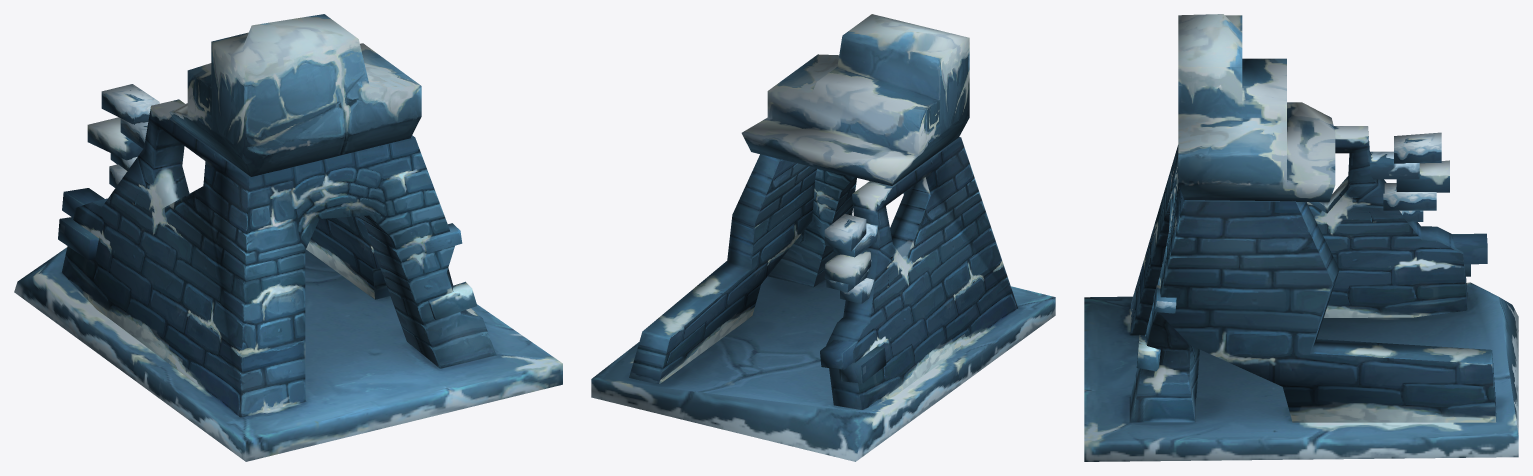
File: Stage_BingYuan_FengHuoTai01.FBX
The picture shows the model from 3 angles, left to right: view 1: azimuth 30°, elevation 25°; view 2: azimuth 150°, elevation 25°; view 3: azimuth 270°, elevation 25°; orthographic projection. The views are drawn at different scales.
Parts seen in each view (by area): view 1: Stage_BingYuan_FengHuoTai01; view 2: Stage_BingYuan_FengHuoTai01; view 3: Stage_BingYuan_FengHuoTai01.
Part boxes in pixels (x1,y1,x2,y2): Stage_BingYuan_FengHuoTai01: (14,14,562,461); Stage_BingYuan_FengHuoTai01: (591,14,1055,461); Stage_BingYuan_FengHuoTai01: (1084,14,1518,461).
Size of the model in its own units: 325 by 356 by 413.
